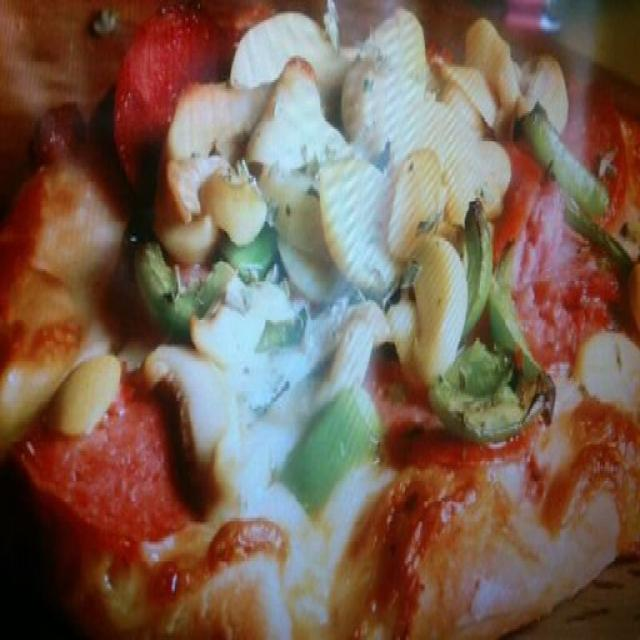Green Pepper: (462, 207, 541, 374), (280, 390, 376, 520), (437, 369, 552, 456), (523, 112, 606, 212), (134, 265, 226, 313), (255, 308, 314, 356), (230, 231, 269, 283)
Mushrooms: (351, 58, 508, 202), (313, 153, 400, 288), (154, 158, 269, 251), (173, 77, 254, 205), (260, 61, 342, 179), (470, 28, 566, 122), (405, 234, 461, 365), (43, 346, 124, 432), (386, 157, 445, 259), (443, 146, 509, 216), (580, 338, 640, 413)
Pepperoni: (37, 384, 195, 539), (118, 14, 225, 167)
Pizza: (0, 0, 640, 640)
